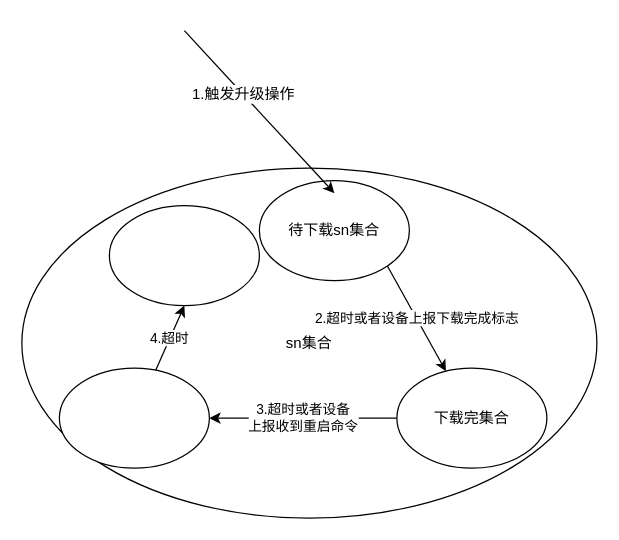
Some shapes in this 619 by 540 pixel diagram are drawn without their labels. The shapes that lost their labels are listed below. From the top down, each one's box as (x1, y1, x2, y2) in pixels, then its label:
(108, 204, 259, 306): 重启完
(58, 367, 209, 468): 重启中sn集合
